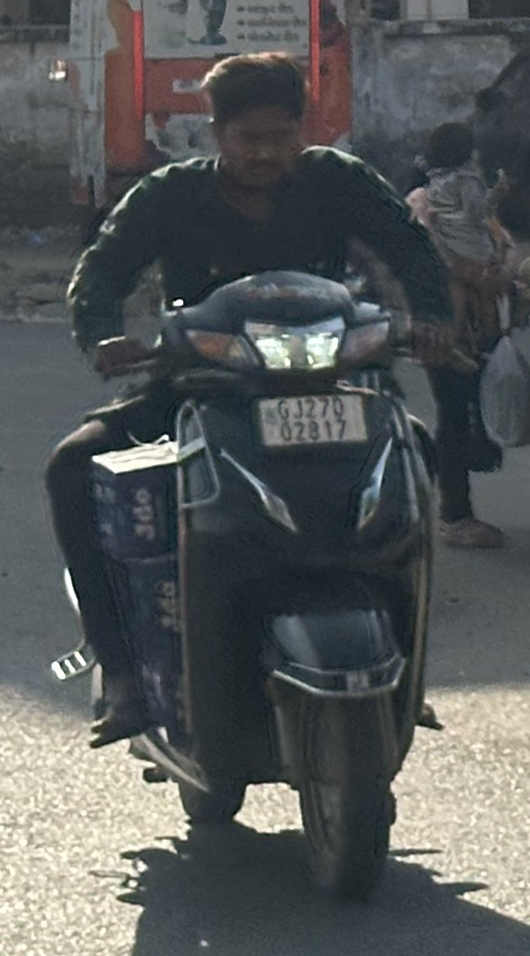BikeWithRider: (26, 35, 494, 917)
NoHelmet: (196, 50, 326, 212)
